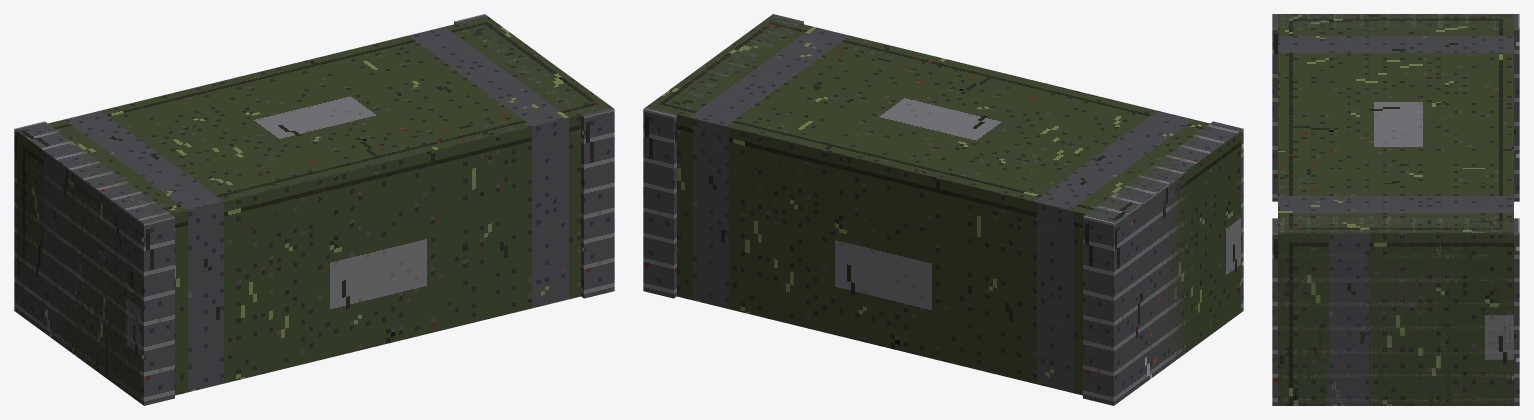
File: SM_Prop_Footlocker_01.glb
3 renders of one model, left to right at view 1: azimuth 30°, elevation 25°; view 2: azimuth 150°, elevation 25°; view 3: azimuth 270°, elevation 25°, orthographic. The views are drawn at different scales.
Parts seen in each view (by area): view 1: SM_Prop_Footlocker_01; view 2: SM_Prop_Footlocker_01; view 3: SM_Prop_Footlocker_01.
Boxes of the visible parts, box(x1,y1,x2,y2) form: SM_Prop_Footlocker_01: box(14, 14, 614, 405); SM_Prop_Footlocker_01: box(643, 14, 1243, 405); SM_Prop_Footlocker_01: box(1272, 14, 1519, 405).
Bounding box in the file's own units: 0.92 × 0.34 × 0.44.
Materials: 1 (1 with a texture image).
